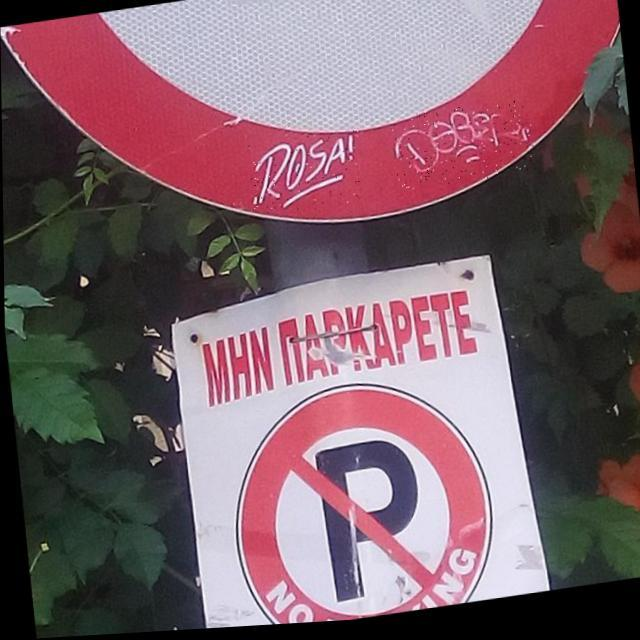-: (390, 102, 535, 196), (245, 132, 365, 220)
